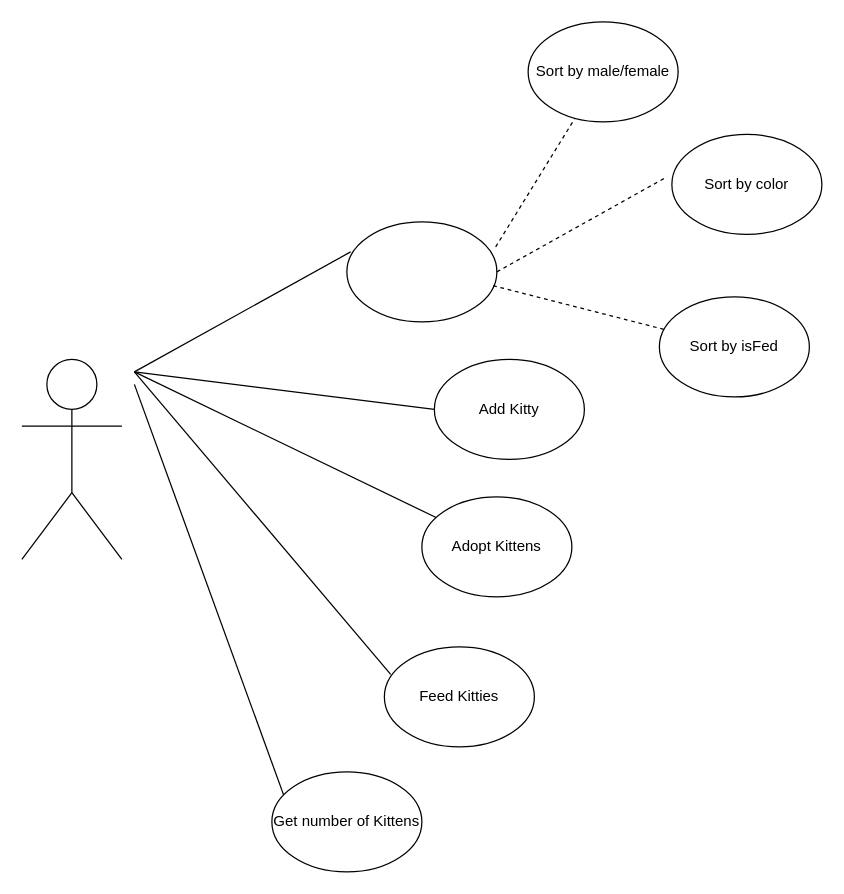
Some shapes in this 844 by 894 pixel diagram are drawn without their labels. The box of each missing label's shape, as (x1, y1, x2, y2) in pixels:
Actor: (21, 358, 122, 559)
View Kittens: (346, 221, 497, 322)
